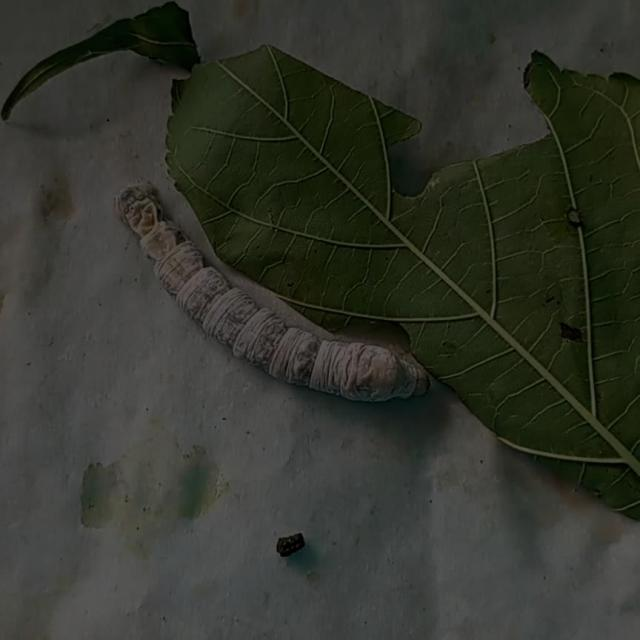Grasserie: (92, 151, 437, 417)
